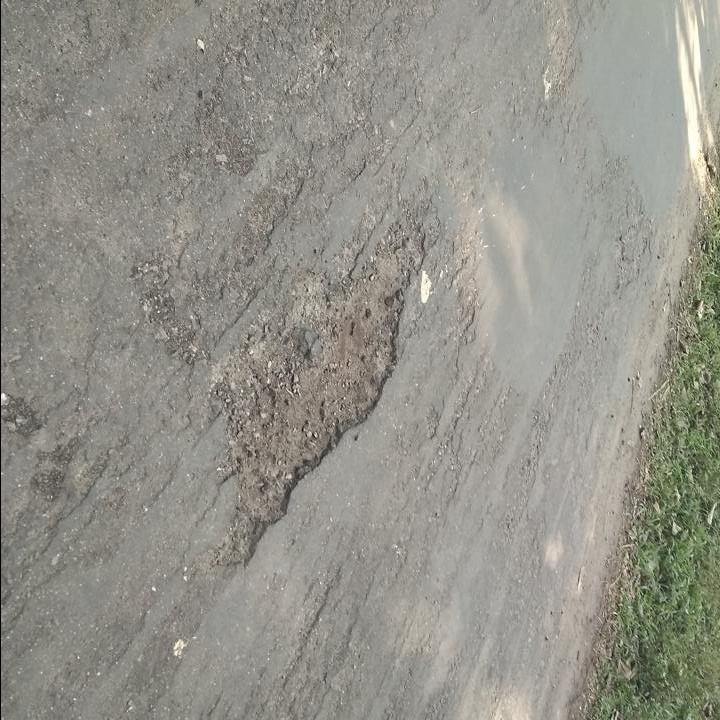pothole: (197, 211, 430, 576)
